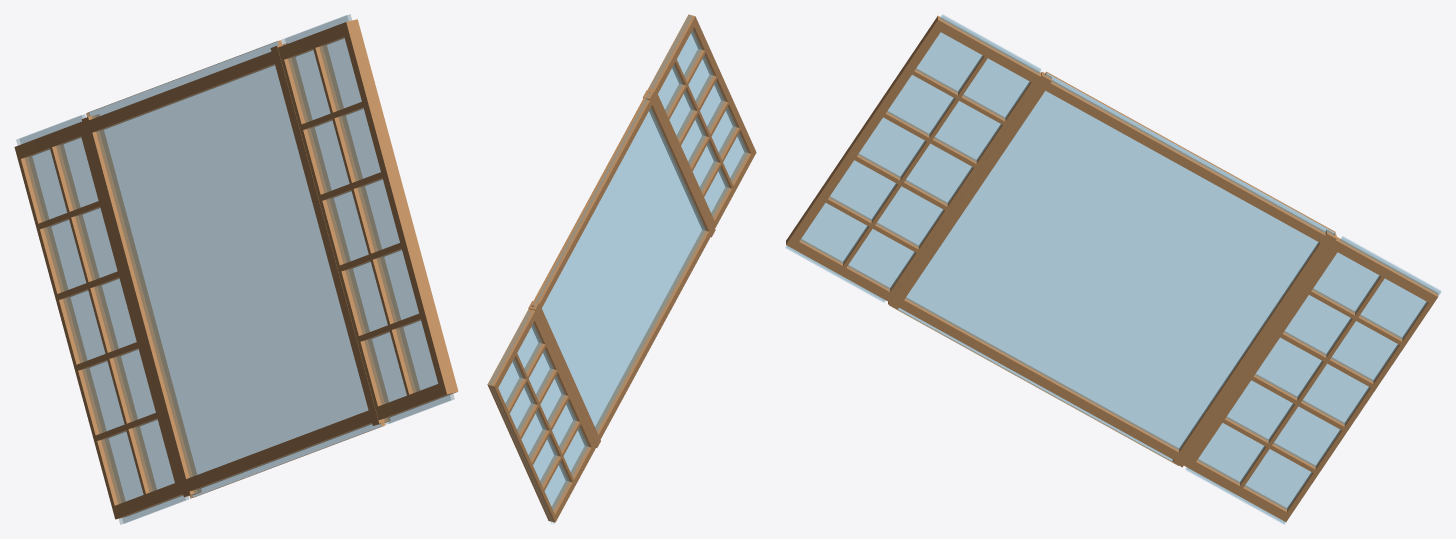
Rendered from Ventana.fbx.
3 views of the same model, side by side, from view 1: azimuth 30°, elevation 25°; view 2: azimuth 150°, elevation 25°; view 3: azimuth 270°, elevation 25° (orthographic). The views are drawn at different scales.
Visible parts, largest first — view 1: Ventana1; view 2: Ventana1; view 3: Ventana1.
Part boxes in pixels (x1,y1,x2,y2): Ventana1: (14, 14, 458, 524); Ventana1: (487, 14, 756, 523); Ventana1: (786, 14, 1440, 524).
Size of the model in its own units: 3.13 by 174 by 203.
